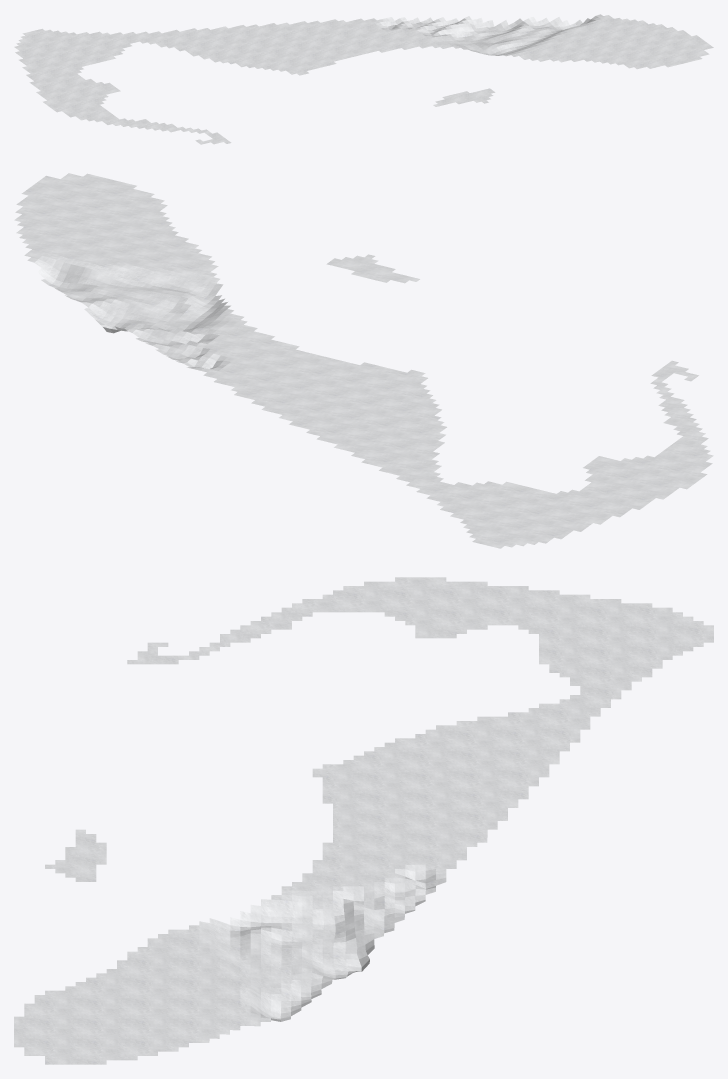
The model's file is FLOWERSSNOW.obj.
3 views of the same model, one above another, from view 1: azimuth 30°, elevation 25°; view 2: azimuth 150°, elevation 25°; view 3: azimuth 270°, elevation 25° (orthographic). The views are drawn at different scales.
Parts seen in each view (by area): view 1: Flori; view 2: Flori; view 3: Flori.
Part boxes in pixels (x1,y1,x2,y2): Flori: (14, 14, 713, 144); Flori: (14, 173, 713, 548); Flori: (14, 577, 713, 1064).
Bounding box in the file's own units: 15.24 × 0.3144 × 9.25.
Materials: 1 (1 with a texture image).
